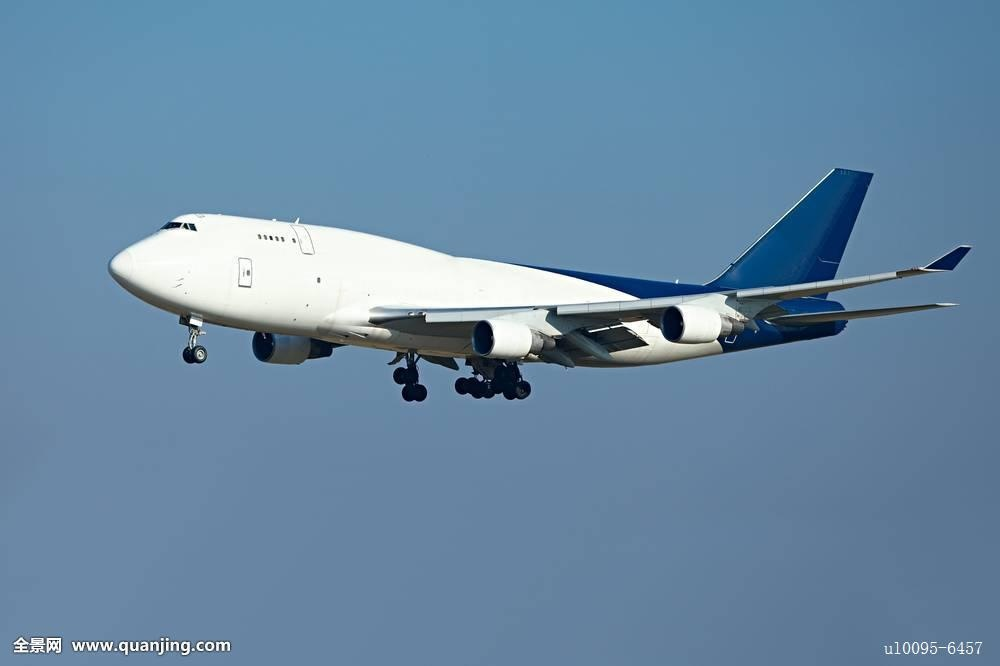airplane: (84, 157, 973, 397)
